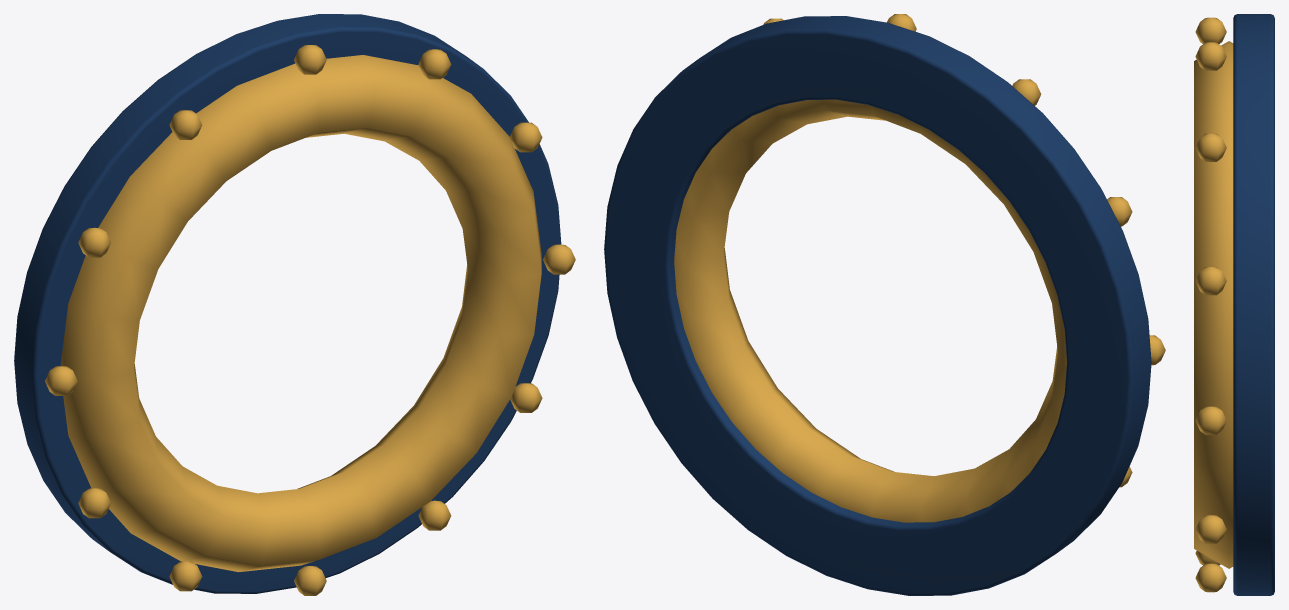
Rendered from aqua_porthole.glb.
3 renders of one model, left to right at view 1: azimuth 30°, elevation 25°; view 2: azimuth 150°, elevation 25°; view 3: azimuth 270°, elevation 25°, orthographic. The views are drawn at different scales.
Parts seen in each view (by area): view 1: Porthole; view 2: Porthole; view 3: Porthole.
Part boxes in pixels (x1,y1,x2,y2): Porthole: (14,14,575,595); Porthole: (604,14,1165,595); Porthole: (1194,14,1274,595).
Size of the model in its own units: 2.8 by 2.8 by 0.3884.
